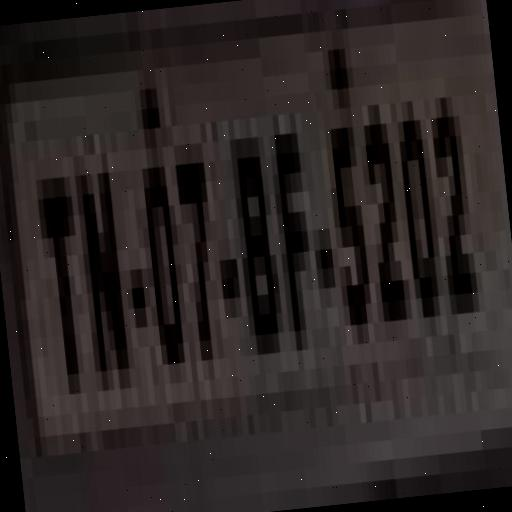number plate: (0, 0, 500, 497)
